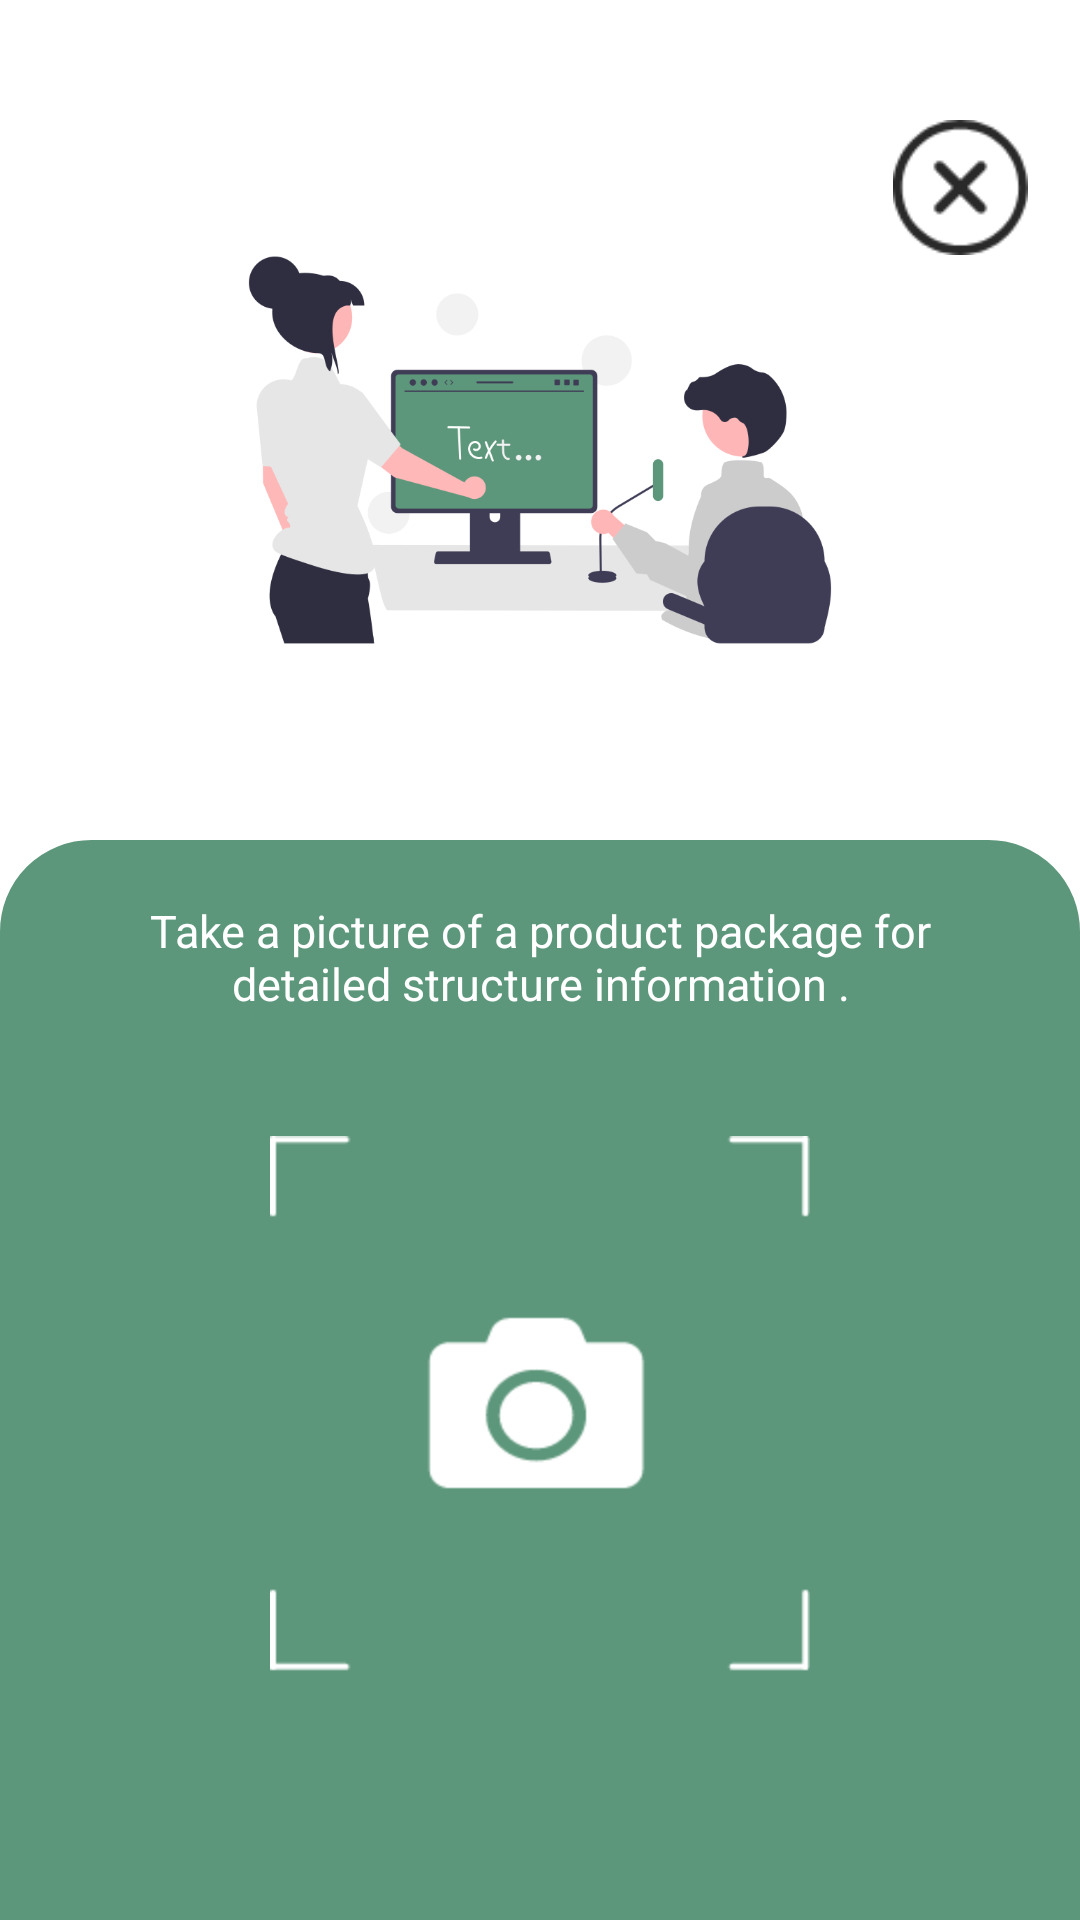

Icon bounding boxes for this 1080 × 1920 phone screenshot, format (x1, y1, x2, y2):
close: (893, 120, 1028, 255)
